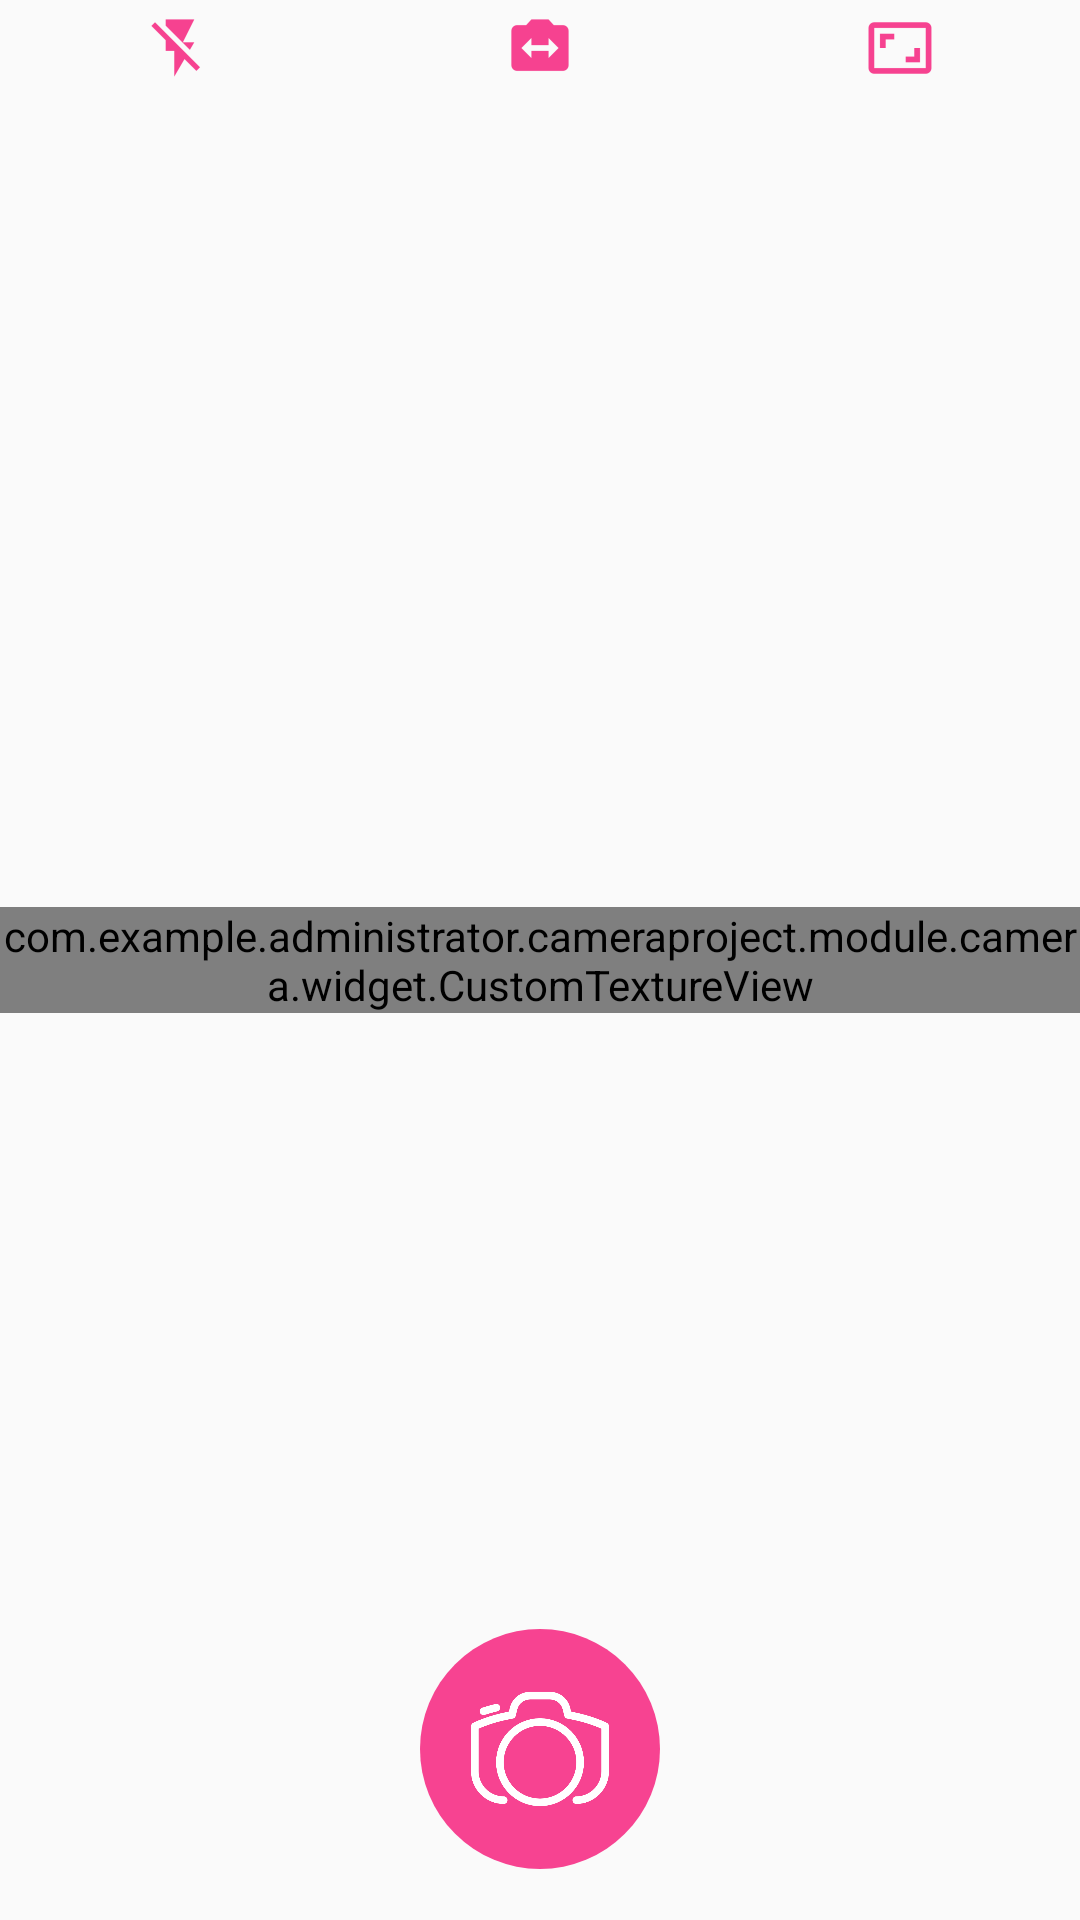

Named icons in this screenshot (1080*1920) and their centers, (x=x, y=y):
flash off: (x=175, y=47)
switch aspect ratio: (x=900, y=48)
switch camera: (x=540, y=45)
